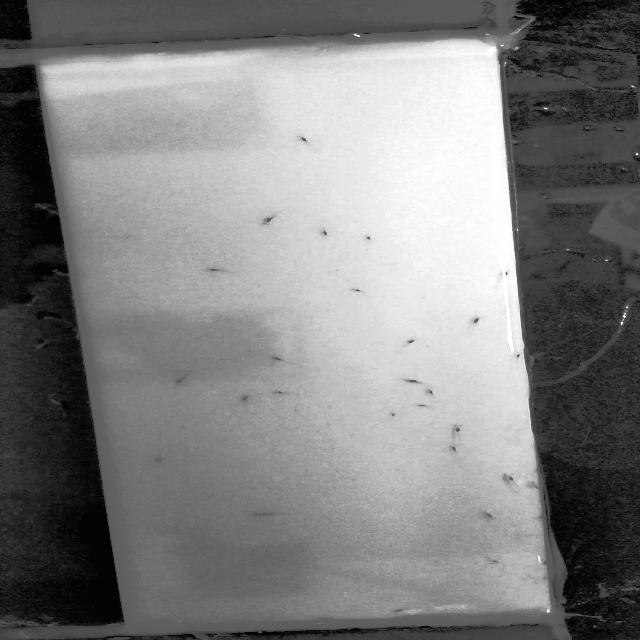shrimp: (248, 346, 303, 373), (244, 507, 298, 521), (439, 421, 478, 440), (370, 601, 418, 616), (197, 260, 236, 278), (394, 330, 426, 351), (286, 131, 321, 149), (249, 213, 294, 227), (492, 472, 526, 490), (310, 223, 340, 243), (340, 283, 374, 299), (456, 313, 490, 329), (168, 370, 195, 390), (469, 509, 505, 524), (412, 387, 446, 402), (352, 230, 382, 245), (267, 386, 294, 402), (234, 391, 256, 409), (396, 375, 436, 384), (438, 443, 466, 455), (506, 348, 528, 361)
